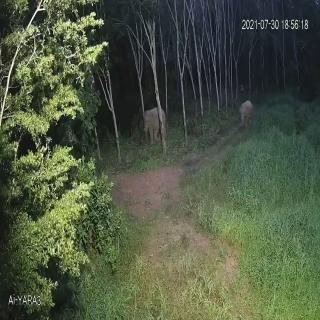Elephant: (142, 101, 170, 154), (236, 96, 256, 140)
